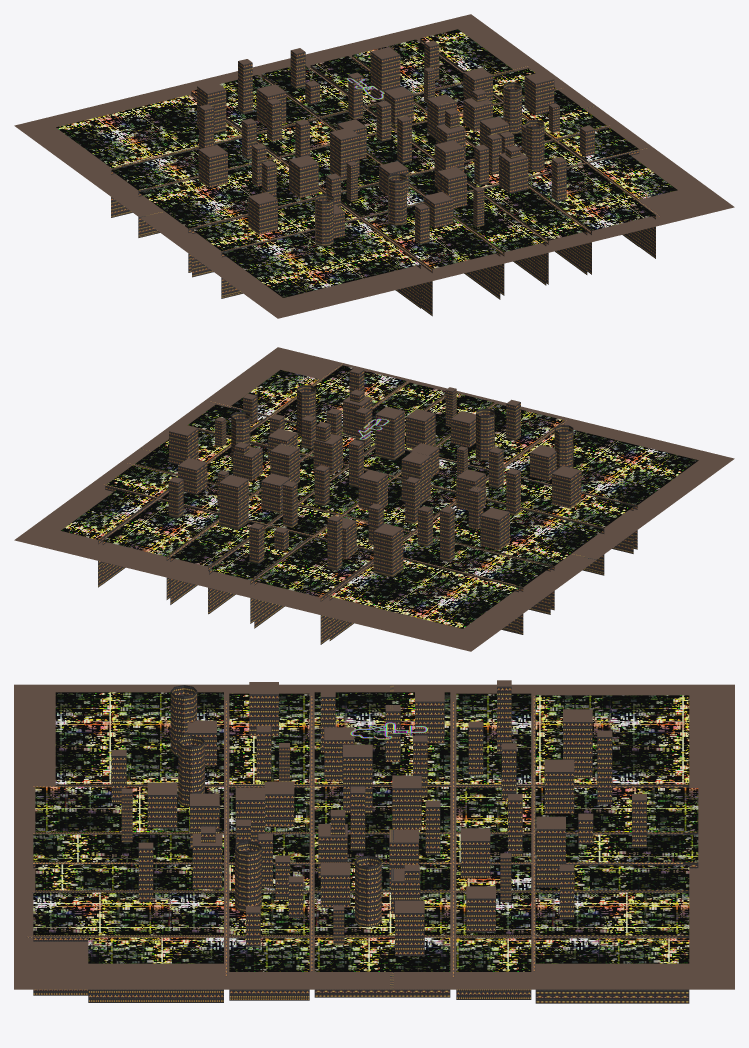
The picture shows the model from 3 angles, top to bottom: view 1: azimuth 30°, elevation 25°; view 2: azimuth 150°, elevation 25°; view 3: azimuth 270°, elevation 25°; orthographic projection. The views are drawn at different scales.
Parts seen in each view (by area): view 1: citycourse_SKP__city_buildings, citycourse_SKP__city_floor; view 2: citycourse_SKP__city_buildings, citycourse_SKP__city_floor; view 3: citycourse_SKP__city_buildings, citycourse_SKP__city_floor.
Boxes of the visible parts, x1=… form: citycourse_SKP__city_buildings: x1=14, y1=14, x2=734, y2=318; citycourse_SKP__city_floor: x1=56, y1=29, x2=677, y2=297; citycourse_SKP__city_buildings: x1=14, y1=347, x2=734, y2=651; citycourse_SKP__city_floor: x1=61, y1=365, x2=698, y2=628; citycourse_SKP__city_buildings: x1=14, y1=680, x2=734, y2=1003; citycourse_SKP__city_floor: x1=33, y1=692, x2=698, y2=971.
Bounding box in the file's own units: 1118078 × 288369 × 1118078.
Materials: 7 (7 with a texture image).
